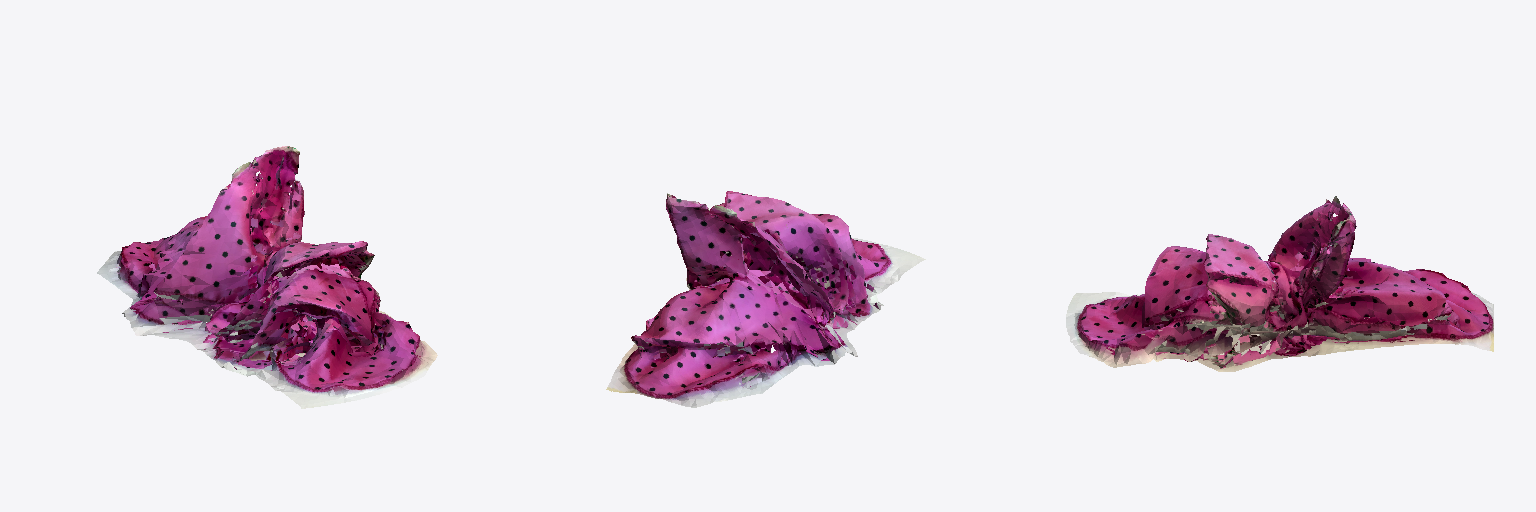
3 views of the same model, side by side, from view 1: azimuth 30°, elevation 25°; view 2: azimuth 150°, elevation 25°; view 3: azimuth 270°, elevation 25° (orthographic).
Visible parts, largest first — view 1: Ruzova_Masle_Lowpoly_model.032; view 2: Ruzova_Masle_Lowpoly_model.032; view 3: Ruzova_Masle_Lowpoly_model.032.
Part boxes in pixels (x1,y1,x2,y2): Ruzova_Masle_Lowpoly_model.032: (97, 146, 437, 408); Ruzova_Masle_Lowpoly_model.032: (606, 191, 925, 407); Ruzova_Masle_Lowpoly_model.032: (1066, 196, 1493, 371).
Size of the model in its own units: 2.72 by 1.71 by 4.79.
Materials: 1 (1 with a texture image).